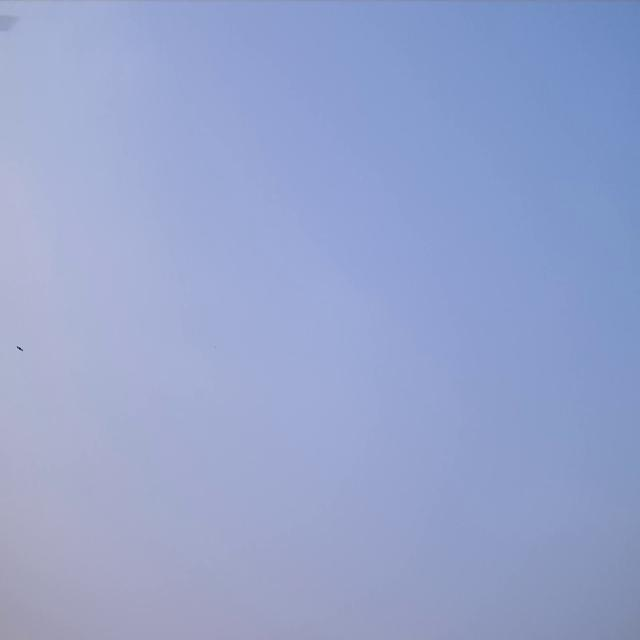UAV: (15, 344, 26, 354)
